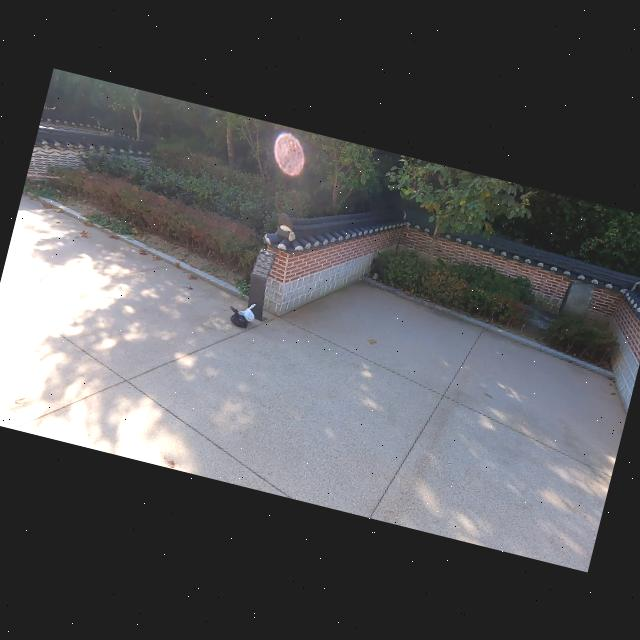trash: (225, 305, 252, 329)
